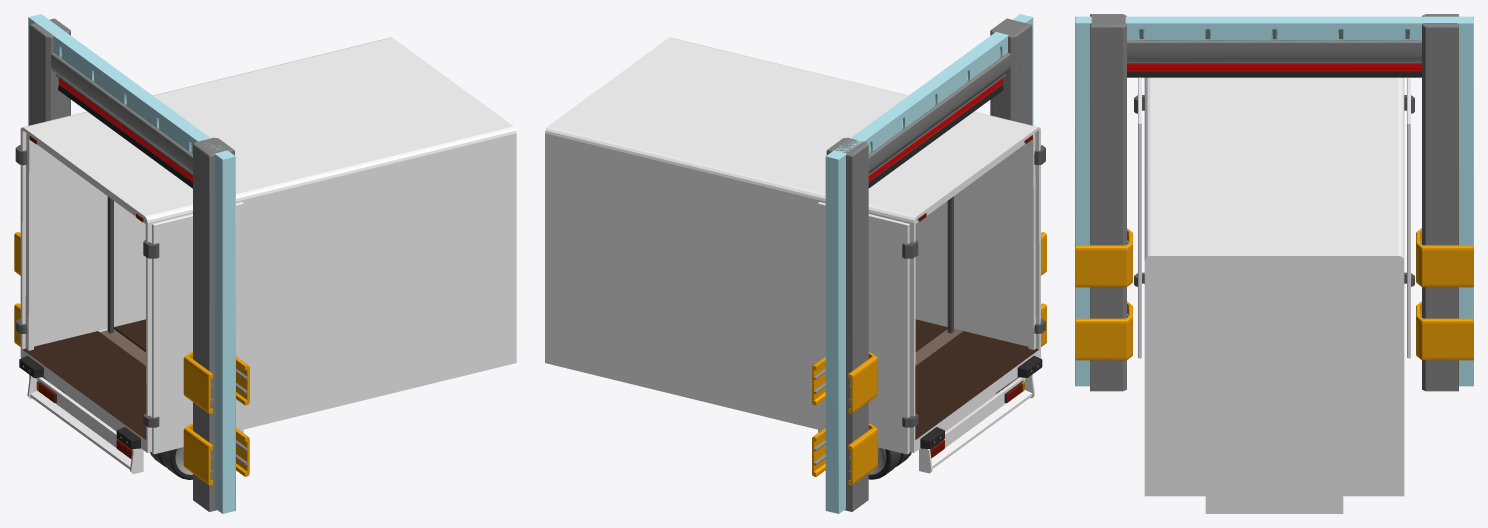
The model's file is Delivery_Truck.glb.
The picture shows the model from 3 angles, left to right: view 1: azimuth 30°, elevation 25°; view 2: azimuth 150°, elevation 25°; view 3: azimuth 270°, elevation 25°; orthographic projection. The views are drawn at different scales.
Visible parts, largest first — view 1: Delivery_Truck.001, Doorframe_Delivery; view 2: Delivery_Truck.001, Doorframe_Delivery; view 3: Delivery_Truck.001, Doorframe_Delivery.
Boxes of the visible parts, x1=… form: Delivery_Truck.001: x1=15, y1=37, x2=516, y2=479; Doorframe_Delivery: x1=14, y1=14, x2=249, y2=513; Delivery_Truck.001: x1=545, y1=37, x2=1045, y2=479; Doorframe_Delivery: x1=812, y1=14, x2=1046, y2=513; Delivery_Truck.001: x1=1134, y1=77, x2=1414, y2=513; Doorframe_Delivery: x1=1075, y1=14, x2=1473, y2=391.
Bounding box in the file's own units: 4.49 × 4.04 × 4.
2 materials, 2 textured.
